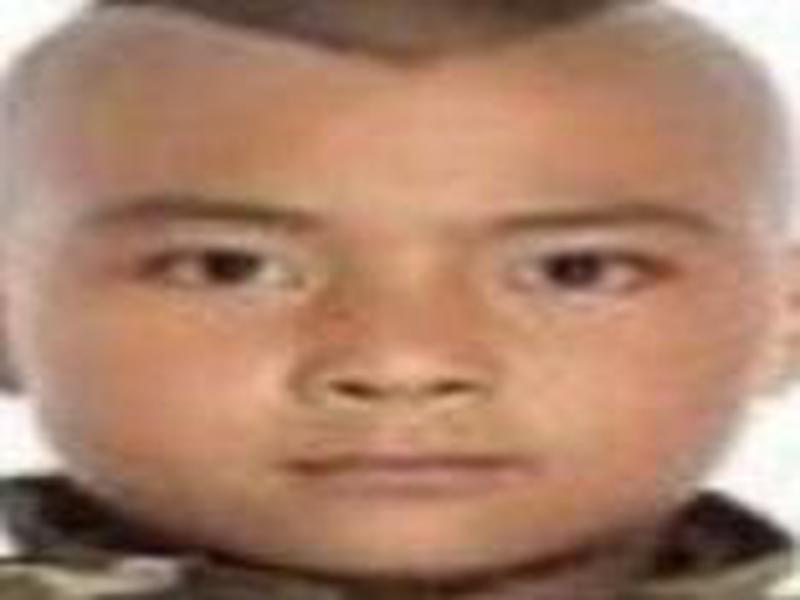without_mask: (1, 42, 785, 585)
